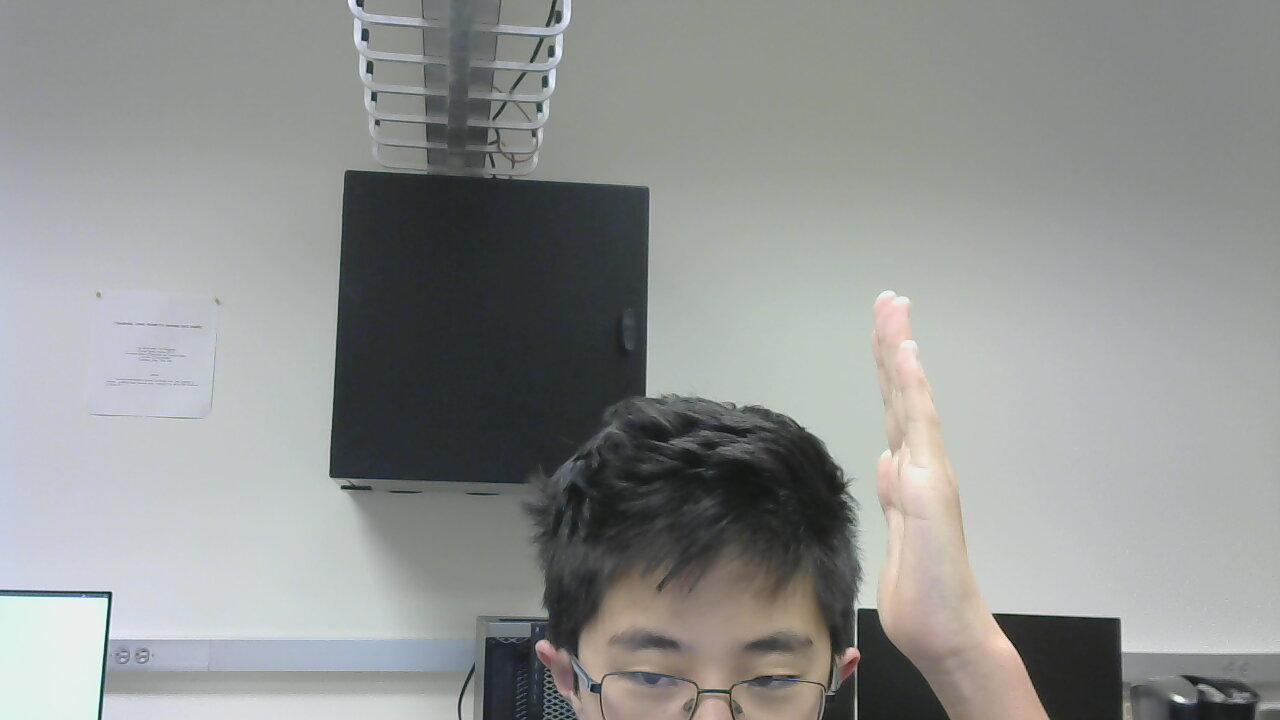hands: (856, 285, 1004, 677)
